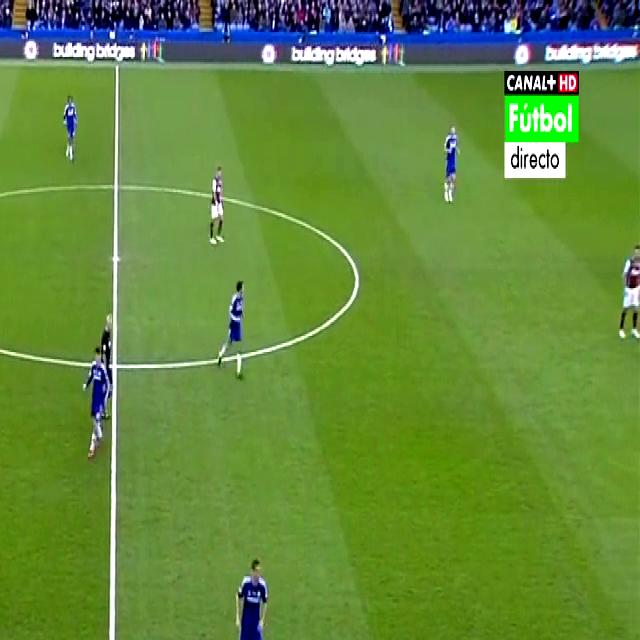soccer-player: (227, 544, 281, 640), (214, 269, 253, 381), (616, 225, 640, 345), (81, 348, 110, 447), (438, 114, 466, 204), (204, 150, 228, 243), (61, 95, 83, 170)
